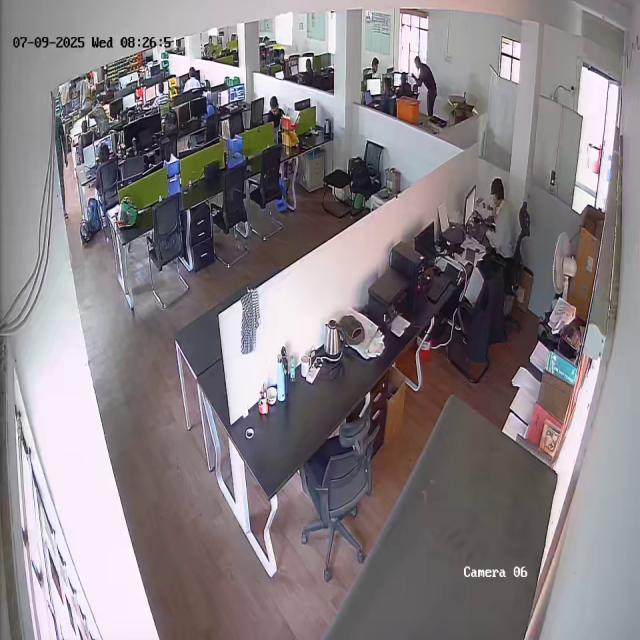person: (478, 177, 520, 292), (412, 56, 438, 118), (266, 96, 290, 133)
